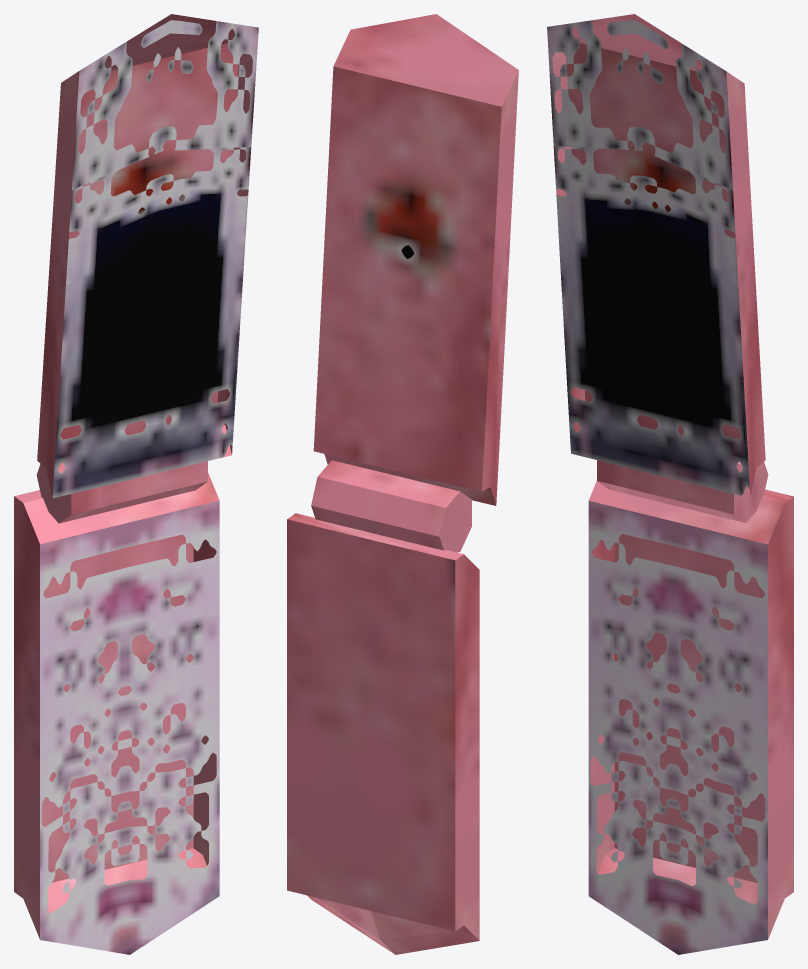
File: GyaruPhone.fbx
3 views of the same model, side by side, from view 1: azimuth 30°, elevation 25°; view 2: azimuth 150°, elevation 25°; view 3: azimuth 330°, elevation 25° (orthographic). The views are drawn at different scales.
Parts seen in each view (by area): view 1: Cube, Cube.001, Cylinder; view 2: Cube.001, Cube, Cylinder; view 3: Cube, Cube.001, Cylinder.
Boxes of the visible parts, box(x1,y1,x2,y2) form: Cube: box(14, 473, 219, 954); Cube.001: box(37, 14, 258, 498); Cylinder: box(36, 461, 207, 523); Cube.001: box(313, 14, 518, 505); Cube: box(287, 513, 479, 954); Cylinder: box(311, 460, 471, 552); Cube: box(588, 481, 793, 954); Cube.001: box(547, 14, 765, 497); Cylinder: box(597, 460, 768, 522).
Size of the model in its own units: 203 by 1036 by 132.
